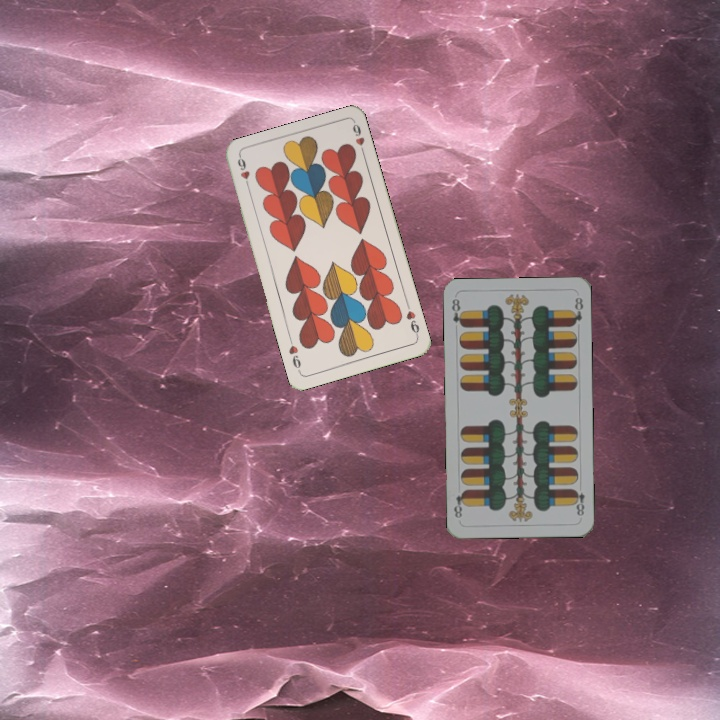E8: (448, 295, 466, 330), (570, 485, 587, 519)
H9: (233, 153, 253, 193), (402, 307, 422, 340)
